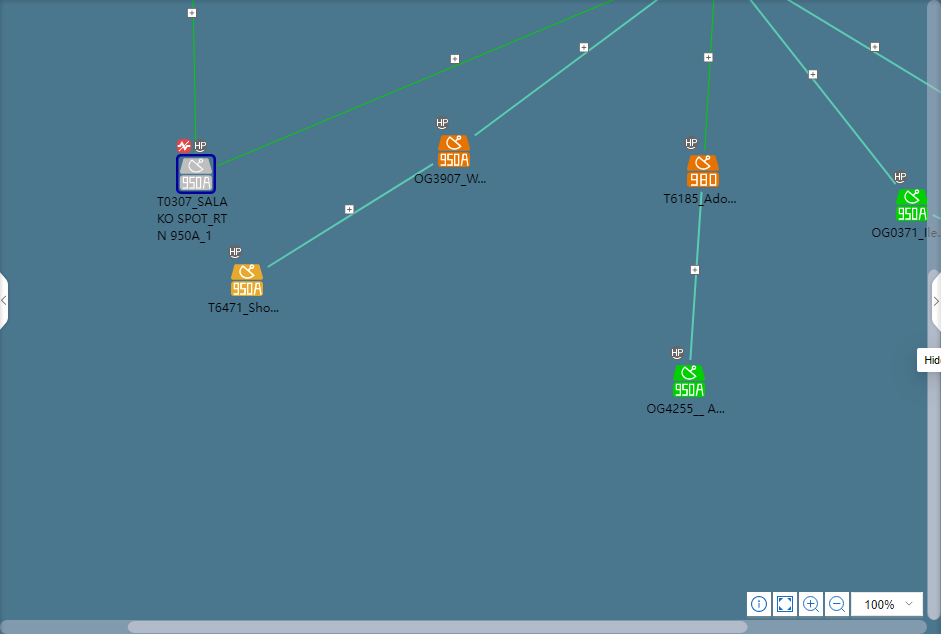Link_Blue: (747, 0, 898, 188), (472, 0, 659, 138), (266, 162, 433, 270), (785, 1, 941, 96), (688, 192, 703, 360)
Link_Green: (218, 0, 616, 170), (702, 1, 715, 153), (190, 1, 198, 151)
RTN_Gray: (178, 157, 213, 192)
RTN_Green: (895, 189, 927, 221), (673, 366, 703, 397)
RTN_Orange: (687, 155, 718, 187), (438, 135, 468, 167)
RTN_Yellow: (231, 265, 262, 296)
